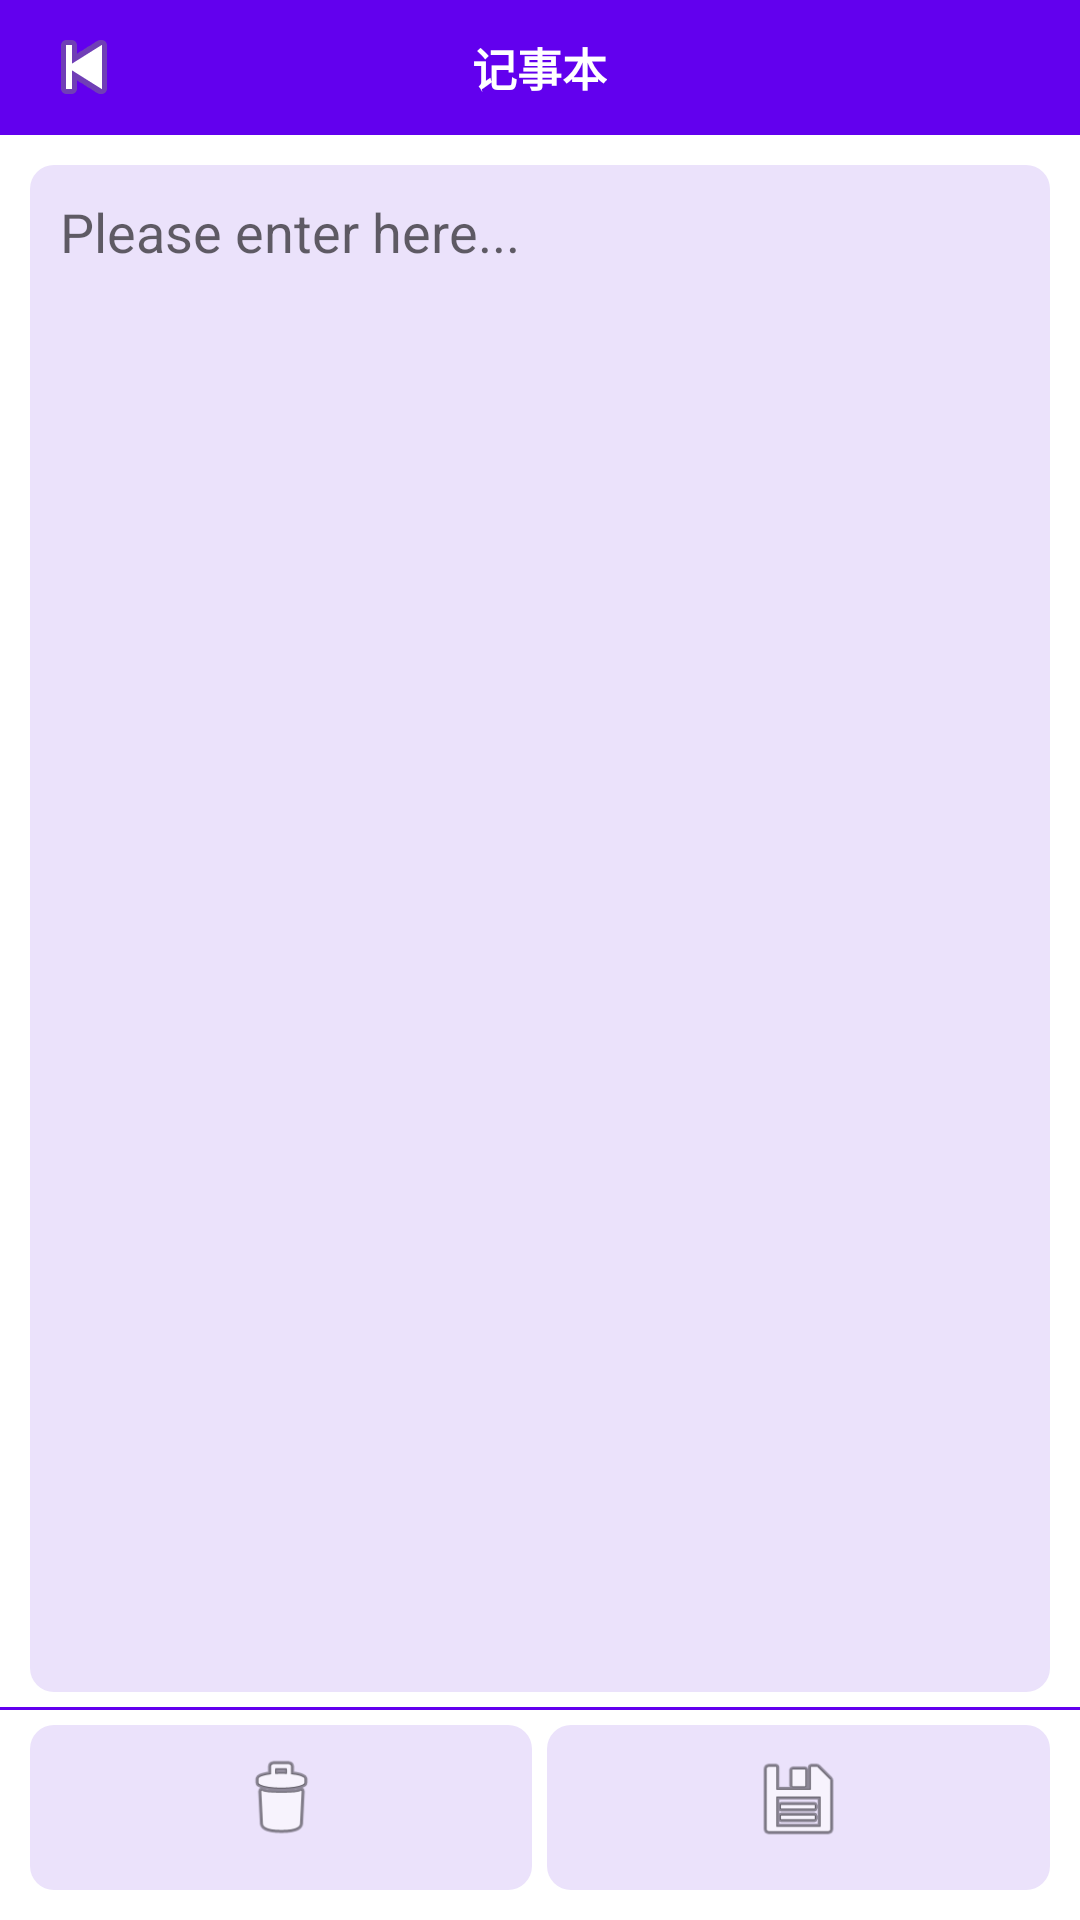

Icon click points for this 1080px x 1920px phone screenshot, format (x,y):
previous: (84,67)
